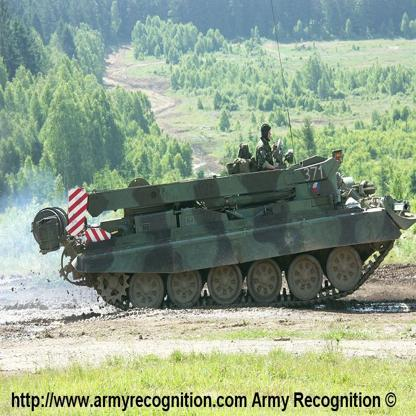Tank: (31, 147, 416, 312)
